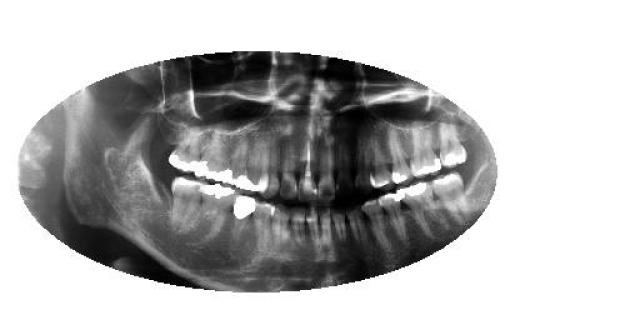Fillings: (397, 182, 445, 238), (192, 184, 232, 245), (232, 125, 266, 195), (194, 128, 234, 182), (169, 122, 201, 174), (229, 195, 259, 243), (438, 120, 468, 168), (388, 127, 412, 185)
